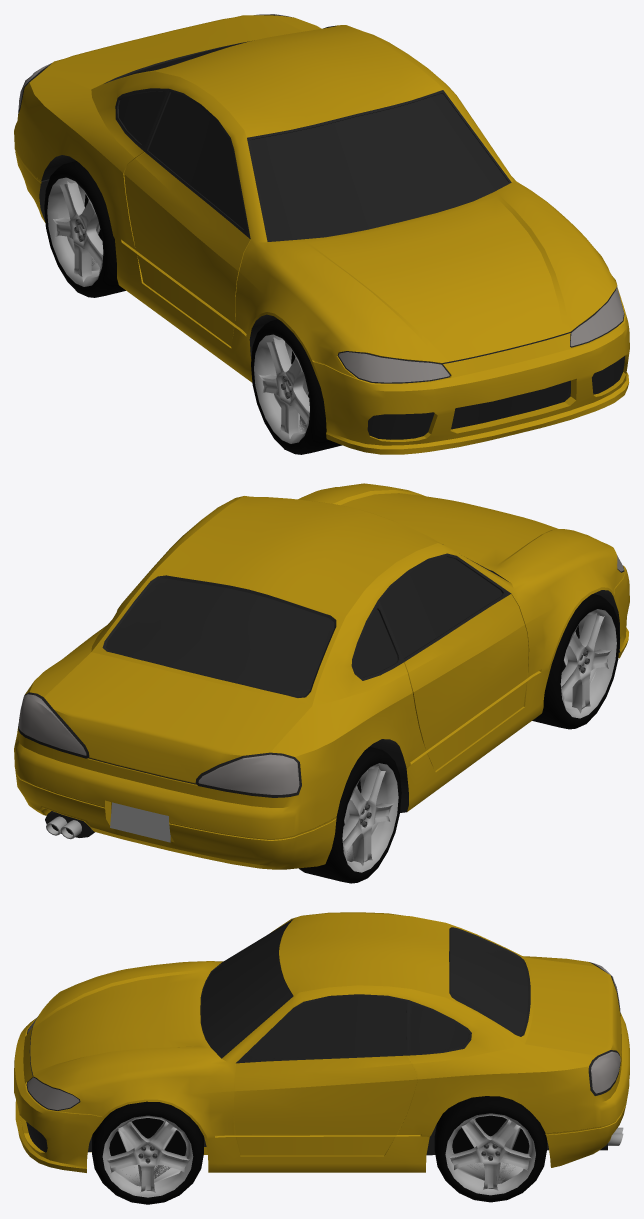
The model's file is obj_Cars_Silvia.fbx.
3 views of the same model, one above another, from view 1: azimuth 30°, elevation 25°; view 2: azimuth 150°, elevation 25°; view 3: azimuth 270°, elevation 25° (orthographic). The views are drawn at different scales.
Parts seen in each view (by area): view 1: obj_car_silvia, obj_wheels_silvia_RR, obj_wheels_silvia_FR; view 2: obj_car_silvia, obj_wheels_silvia_RR, obj_wheels_silvia_FR; view 3: obj_car_silvia, obj_wheels_silvia_RL, obj_wheels_silvia_FL.
Boxes of the visible parts, x1,y1,x2,y2 form: obj_car_silvia: (14, 14, 629, 454); obj_wheels_silvia_RR: (44, 161, 125, 297); obj_wheels_silvia_FR: (251, 319, 342, 454); obj_car_silvia: (14, 483, 629, 869); obj_wheels_silvia_RR: (299, 746, 401, 883); obj_wheels_silvia_FR: (532, 594, 619, 729); obj_car_silvia: (14, 912, 629, 1172); obj_wheels_silvia_RL: (434, 1096, 546, 1202); obj_wheels_silvia_FL: (92, 1101, 203, 1204).
Bounding box in the file's own units: 1.69 × 1.31 × 3.61.
